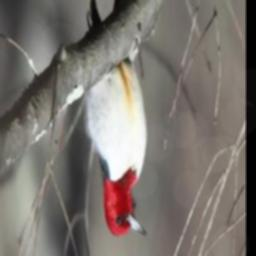Woodpecker: (82, 0, 151, 238)
